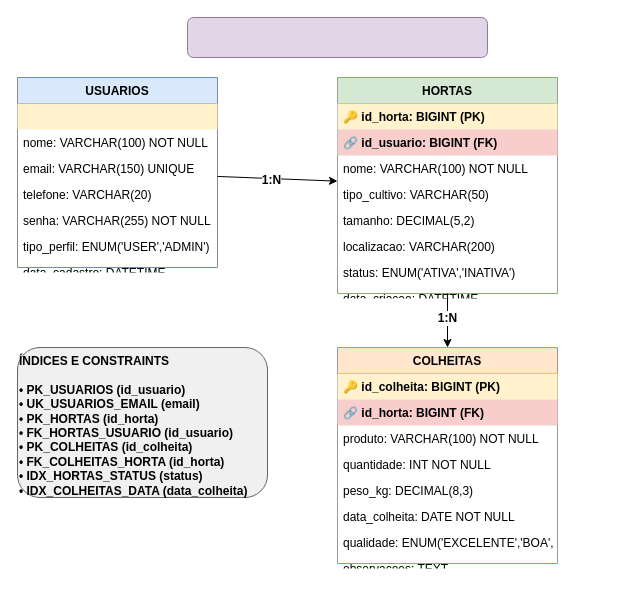
This 637x592 diagram has some shape labels left out. The centre of each missing label's shape, as x and y in pixels:
"DER - ALIMENTANDO O FUTURO Diagrama Entidade-Relacionamento" belongs at (x=337, y=37).
"🔑 id_usuario: BIGINT (PK)" belongs at (x=117, y=116).
